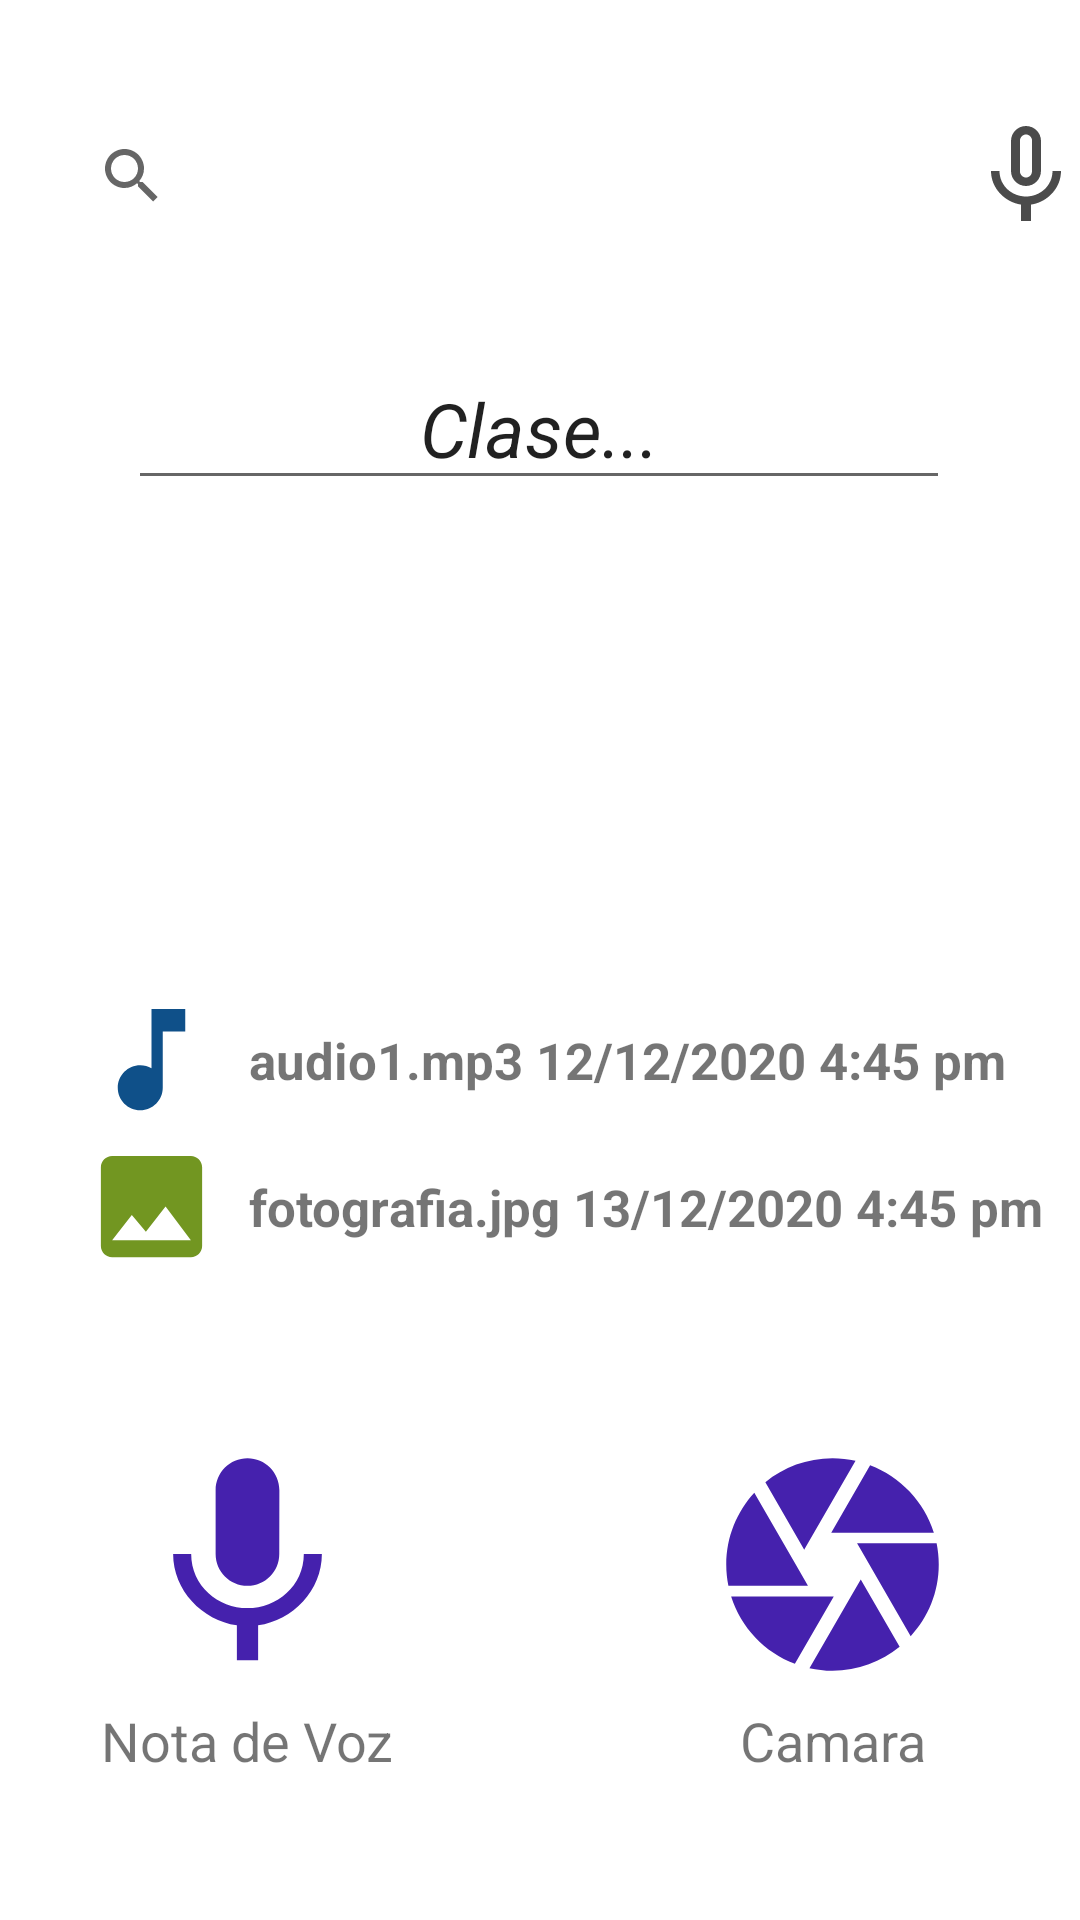

Screen size 1080*1920. Icon name, then its box in pixels as region(x1, y1, x2, y2):
note: region(117, 1009, 186, 1111)
